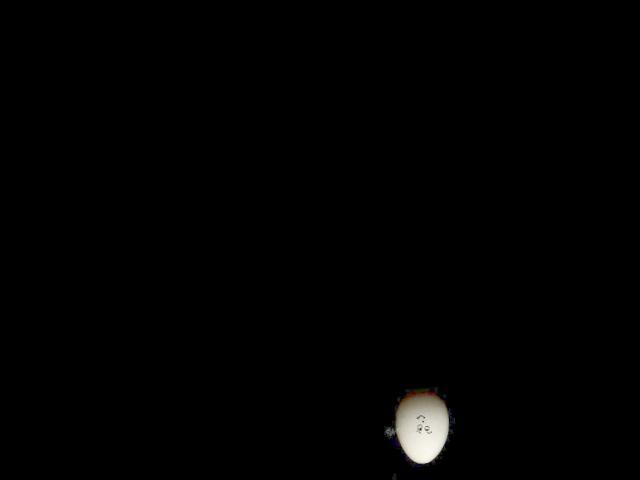egg: (394, 391, 452, 465)
